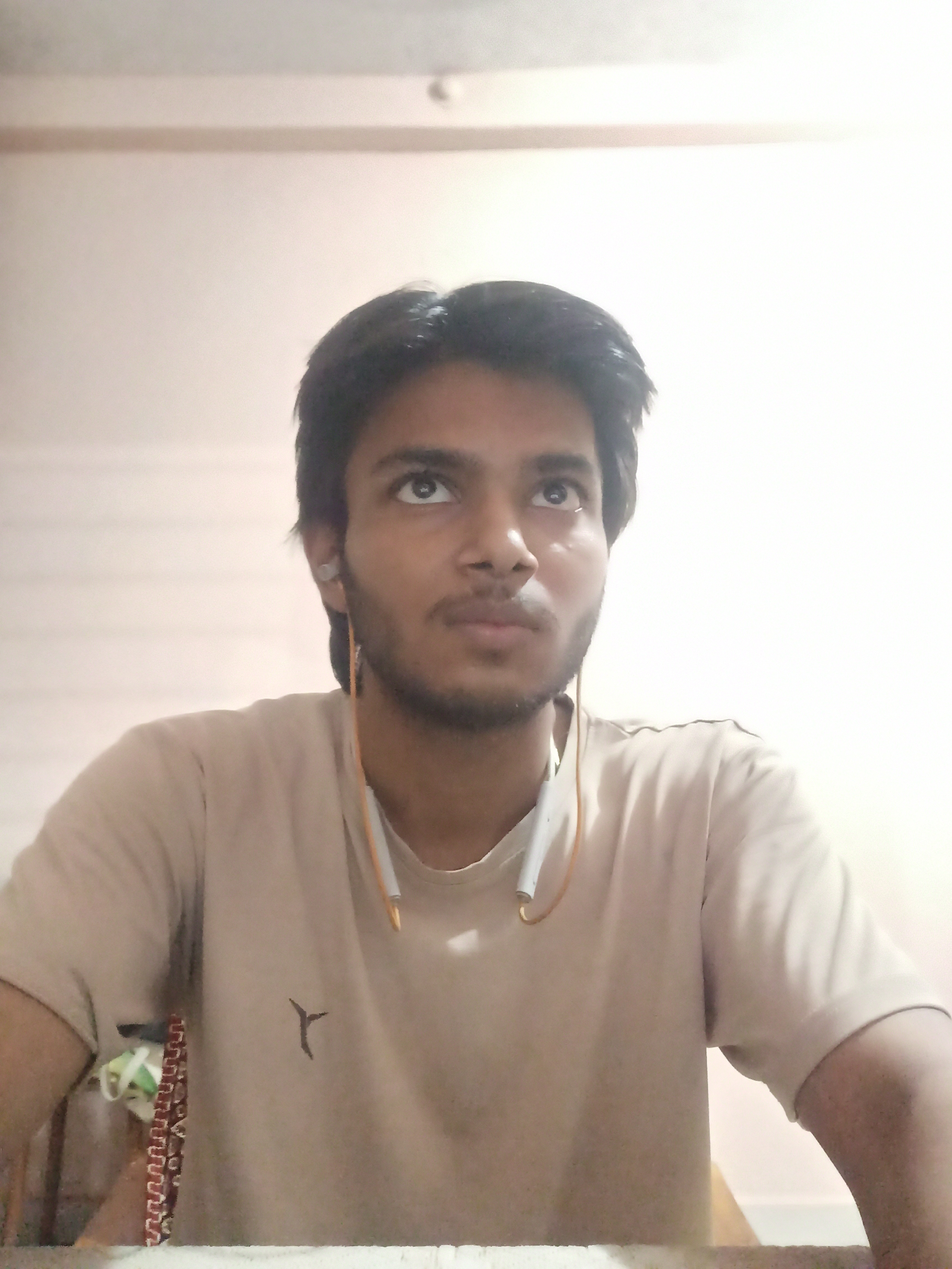Focused: (275, 296, 623, 769)
